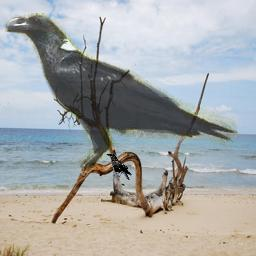Crow: (1, 13, 239, 174), (105, 153, 132, 180)
